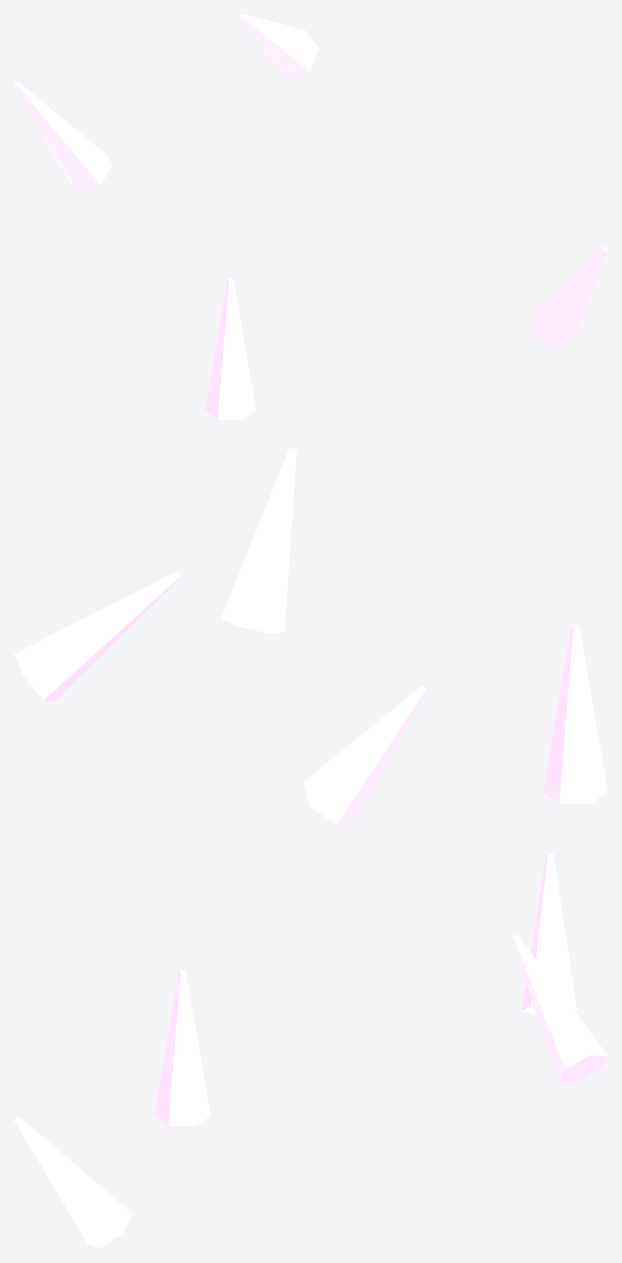
File: SM_Keeper_Hittite_Trophies.fbx
3 renders of one model, top to bottom at view 1: azimuth 30°, elevation 25°; view 2: azimuth 150°, elevation 25°; view 3: azimuth 270°, elevation 25°, orthographic. The views are drawn at different scales.
Visible parts, largest first — view 1: SM_Keeper_Hittite_Trophies; view 2: SM_Keeper_Hittite_Trophies; view 3: SM_Keeper_Hittite_Trophies.
Boxes of the visible parts, x1=… form: SM_Keeper_Hittite_Trophies: x1=14, y1=14, x2=607, y2=419; SM_Keeper_Hittite_Trophies: x1=14, y1=448, x2=607, y2=824; SM_Keeper_Hittite_Trophies: x1=14, y1=853, x2=607, y2=1248.
Size of the model in its own units: 2.56 by 1.68 by 3.35.
